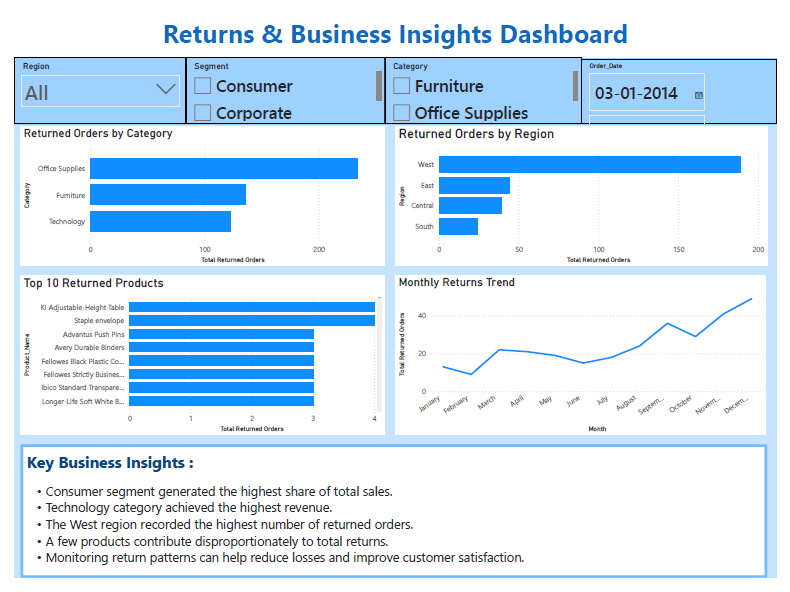

The page's visual inventory and layout, read from the dashboard file:
{"tool":"powerbi","page":{"name":"Returns & Business Insights Dashboard","canvas":[1280,950],"ordinal":3},"visuals":[{"type":"textbox","box":[0,0,1280,76],"z":0},{"type":"clusteredBarChart","title":"Returned Orders by Category","fields":{"Category":["Orders.Category"],"Y":["Orders.Total Returned Orders"]},"box":[10,192,612,234],"z":1000},{"type":"clusteredBarChart","title":"Returned Orders by Region","fields":{"Category":["Orders.Region"],"Y":["Orders.Total Returned Orders"]},"box":[640,192,624,234],"z":2000},{"type":"clusteredBarChart","title":"Top 10 Returned Products","fields":{"Category":["Orders.Product_Name"],"Y":["Orders.Total Returned Orders"]},"box":[10,442,612,268],"z":3000},{"type":"lineChart","title":"Monthly Returns Trend","fields":{"Category":["Orders.Order_Date.Variation.Date Hierarchy.Month"],"Y":["Orders.Total Returned Orders"]},"box":[640,442,622,268],"z":4000},{"type":"textbox","box":[10,726,1254,224],"z":5000},{"type":"slicer","fields":{"Values":["Orders.Region"]},"box":[0,76,288,112],"z":6000},{"type":"slicer","fields":{"Values":["Orders.Segment"]},"box":[288,76,334,112],"z":7000},{"type":"slicer","fields":{"Values":["Orders.Category"]},"box":[622,76,330,112],"z":8000},{"type":"slicer","fields":{"Values":["Orders.Order_Date"]},"box":[952,78,328,110],"z":9000}]}

Visuals, with their boxes in screenshot pixels (x1, y1, x2, y2), scaled from the page's 1280x950 canvas onto the 790x592 screenshot:
textbox: region(0, 0, 789, 47)
"Returned Orders by Category" clusteredBarChart: region(6, 120, 384, 265)
"Returned Orders by Region" clusteredBarChart: region(395, 120, 780, 265)
"Top 10 Returned Products" clusteredBarChart: region(6, 275, 384, 442)
"Monthly Returns Trend" lineChart: region(395, 275, 779, 442)
textbox: region(6, 452, 780, 591)
slicer - Orders.Region: region(0, 47, 178, 117)
slicer - Orders.Segment: region(178, 47, 384, 117)
slicer - Orders.Category: region(384, 47, 588, 117)
slicer - Orders.Order_Date: region(588, 49, 789, 117)
